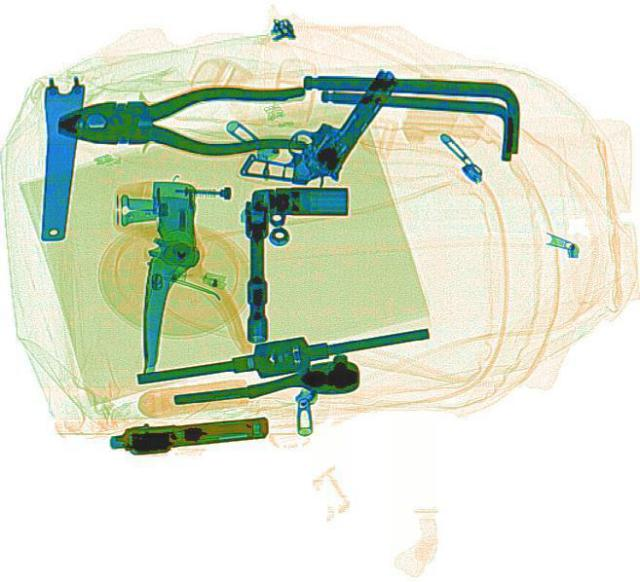Gun: (236, 41, 408, 208), (106, 408, 270, 455)
Pliers: (55, 86, 303, 155)
